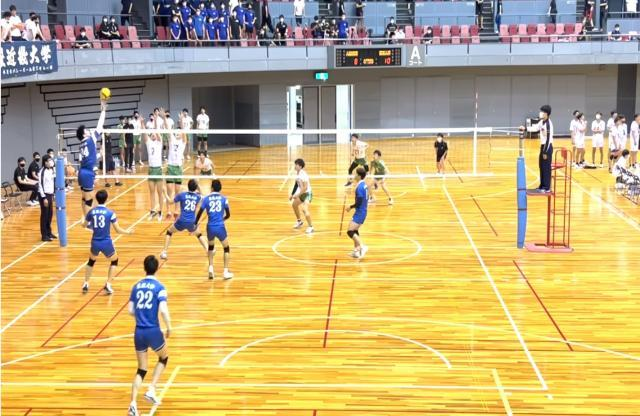spike: (74, 85, 114, 231)
